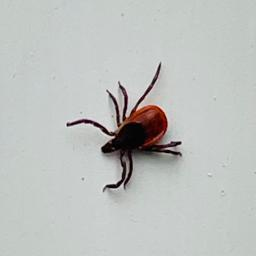Ixodes scapularis: (67, 60, 181, 193)
